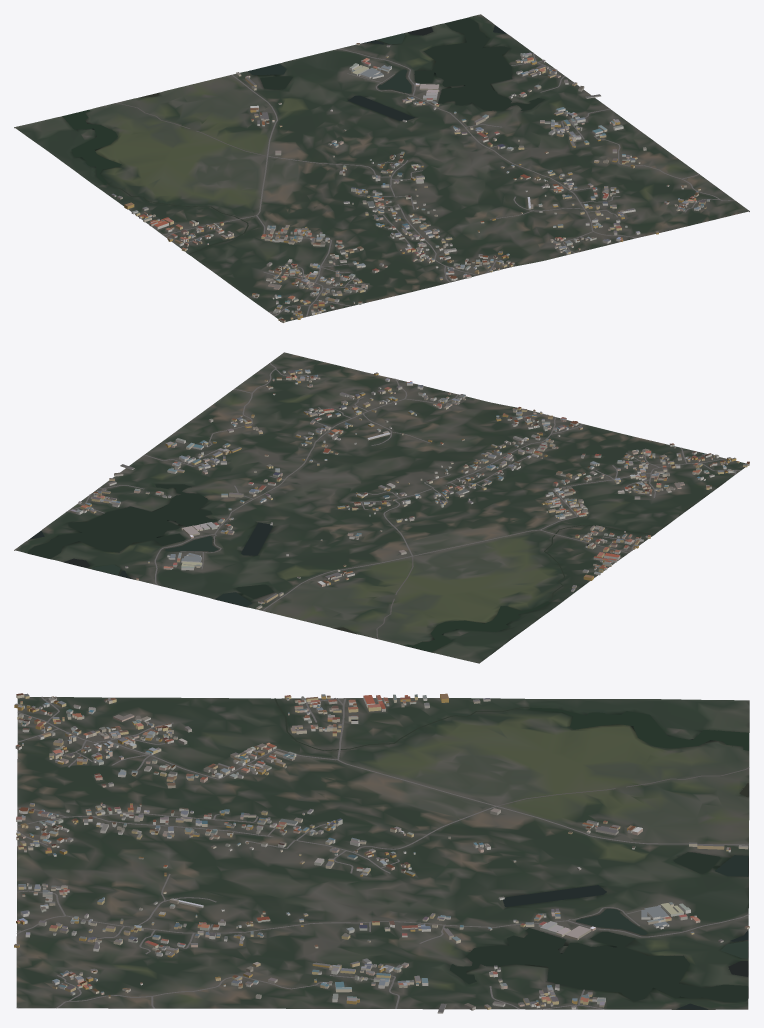
The picture shows the model from 3 angles, top to bottom: view 1: azimuth 30°, elevation 25°; view 2: azimuth 150°, elevation 25°; view 3: azimuth 270°, elevation 25°; orthographic projection. The views are drawn at different scales.
Visible parts, largest first — view 1: ground, buildings, water, roads; view 2: ground, buildings, water, roads; view 3: ground, buildings, water, roads.
Part boxes in pixels (box(x1,y1,x2,y2)): ground: box(14, 14, 749, 321); buildings: box(111, 43, 709, 322); water: box(62, 18, 544, 254); roads: box(114, 49, 749, 316); ground: box(14, 352, 746, 663); buildings: box(70, 368, 749, 609); water: box(27, 484, 654, 652); roads: box(66, 352, 740, 639); ground: box(16, 697, 749, 1009); buildings: box(14, 693, 749, 1013); water: box(274, 698, 748, 1009); roads: box(16, 696, 749, 1009).
Size of the model in its own units: 1424 by 19.84 by 1410.
